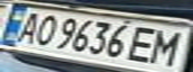3: (87, 19, 112, 56)
6: (106, 21, 136, 60), (69, 18, 93, 54)
9: (48, 16, 78, 51)
A: (9, 10, 45, 44)
E: (121, 25, 166, 64)
M: (142, 28, 190, 66)
O: (27, 12, 63, 46)
